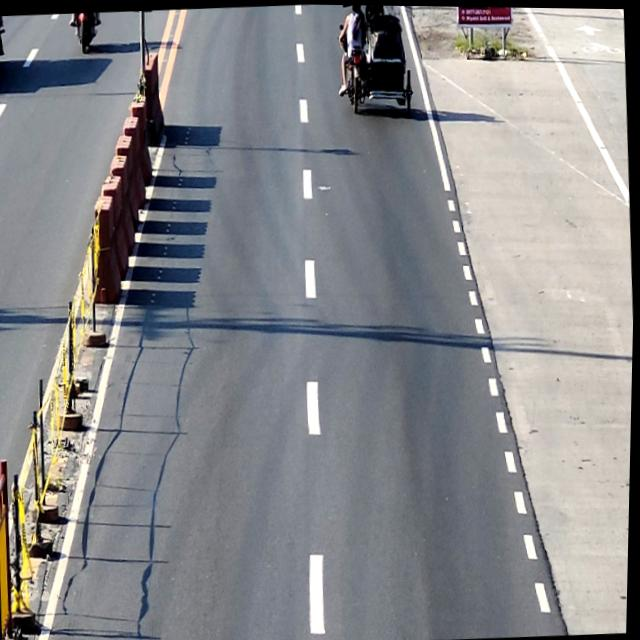Motorcycle: (74, 12, 100, 56)
Tricycle: (336, 4, 417, 115)
